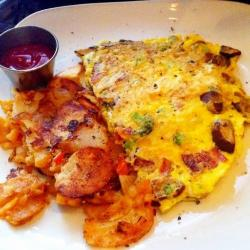ketchup: (1, 32, 53, 72)
omelette: (85, 41, 247, 208)
